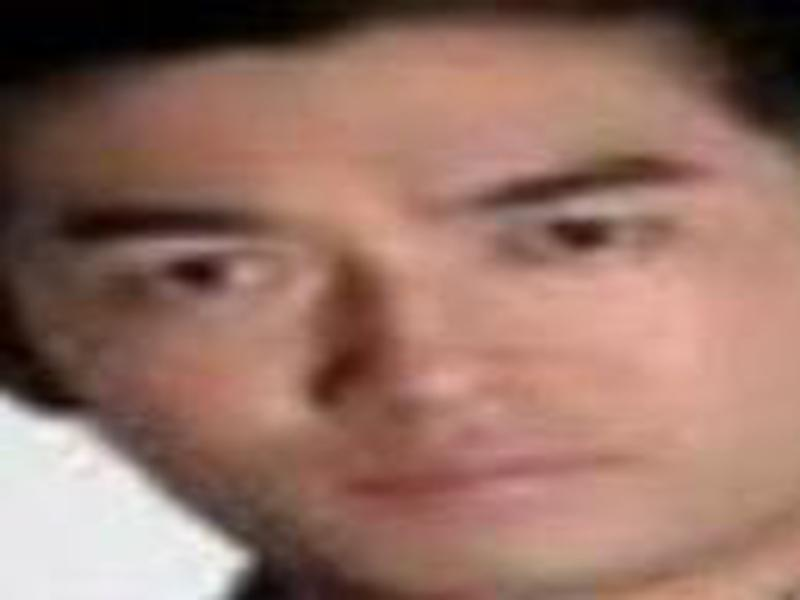without_mask: (19, 31, 795, 585)
